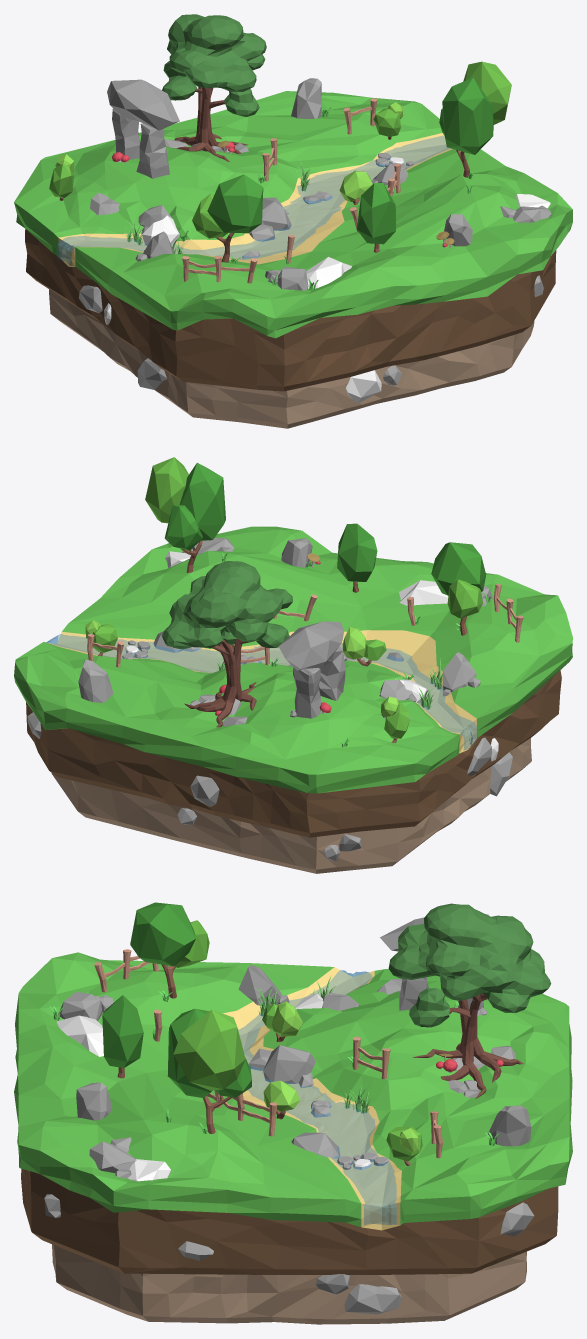
3 views of the same model, one above another, from view 1: azimuth 30°, elevation 25°; view 2: azimuth 150°, elevation 25°; view 3: azimuth 270°, elevation 25° (orthographic). The views are drawn at different scales.
Parts seen in each view (by area): view 1: Plane.001, Cube.002, Cube.003, Mball.016, Lago, Cube, Cube.030, Cube.035, Icosphere.019, Icosphere.012, Cube.041, Icosphere.008 (+9 smaller); view 2: Plane.001, Cube.002, Cube.003, Mball.016, Cube.030, Lago, Cube, Cube.035, Icosphere.019, Icosphere.012, Cube.031, Cube.041 (+7 smaller); view 3: Plane.001, Cube.002, Cube.003, Mball.016, Lago, Cube.030, Cube.035, Icosphere.019, Cube.008, Icosphere.012, Icosphere.000, Cube (+15 smaller).
Boxes of the visible parts, x1,y1,x2,y2 form: Plane.001: (14,91,572,338); Cube.002: (25,229,556,391); Cube.003: (49,289,534,428); Mball.016: (162,14,266,161); Lago: (56,136,450,265); Cube: (107,79,179,178); Cube.030: (439,61,511,177); Cube.035: (192,174,263,262); Icosphere.019: (356,183,395,252); Icosphere.012: (291,78,321,118); Cube.041: (49,154,73,200); Icosphere.008: (306,257,351,288); Plane.001: (14,526,572,793); Cube.002: (26,670,561,837); Cube.003: (51,738,531,873); Mball.016: (162,561,292,727); Cube.030: (145,457,225,572); Lago: (46,634,477,749); Cube: (278,621,345,718); Cube.035: (431,542,486,635); Icosphere.019: (337,523,377,592); Icosphere.012: (78,659,113,702); Cube.031: (342,627,386,666); Cube.041: (381,696,409,742); Plane.001: (14,952,572,1230); Cube.002: (21,1168,558,1274); Cube.003: (52,1244,526,1324); Mball.016: (388,903,551,1098); Lago: (238,970,396,1224); Cube.030: (167,1008,251,1133); Cube.035: (130,902,209,998); Icosphere.019: (102,995,143,1078); Cube.008: (263,1045,315,1083); Icosphere.012: (488,1105,531,1146); Icosphere.000: (344,1284,402,1314); Cube: (380,914,489,1010).
Bounding box in the file's own units: 16.38 × 9.97 × 16.24.
